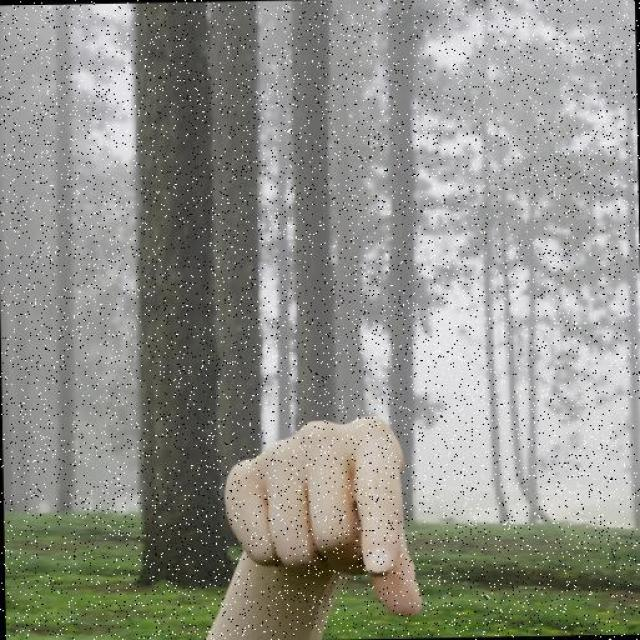Q: (211, 408, 430, 627)
